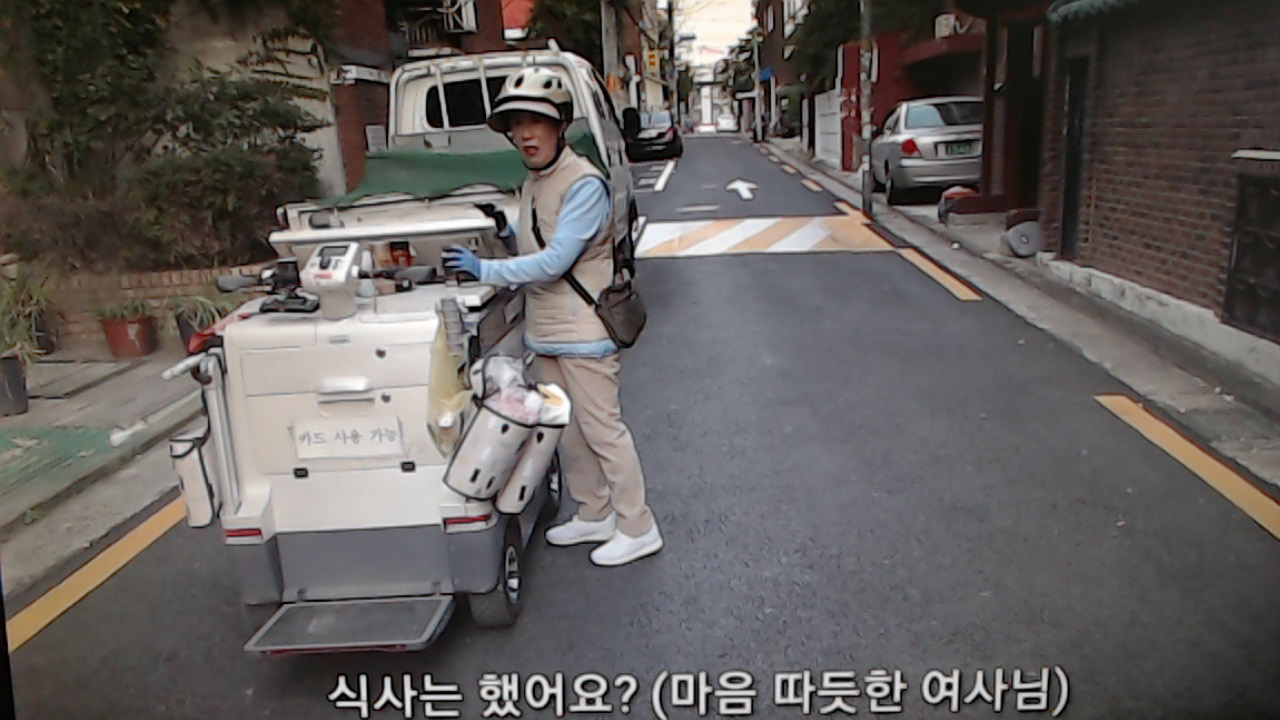Yakurut: (440, 68, 677, 576)
